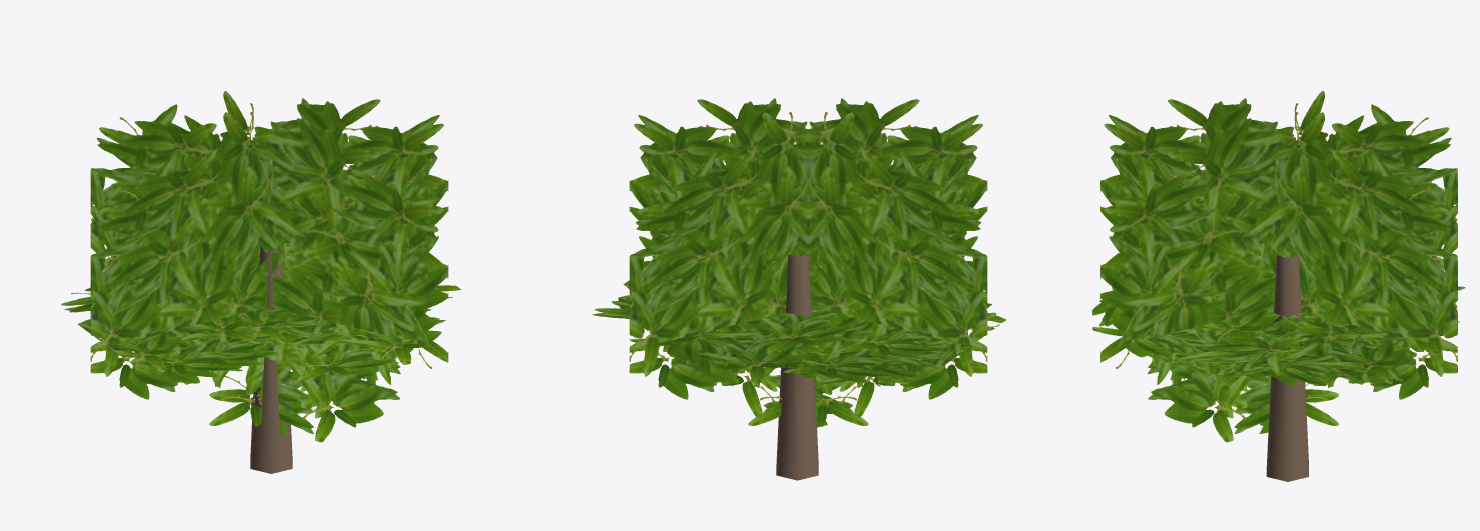
The model's file is tree_lod2.glb.
3 views of the same model, side by side, from view 1: azimuth 30°, elevation 25°; view 2: azimuth 150°, elevation 25°; view 3: azimuth 270°, elevation 25° (orthographic).
Parts seen in each view (by area): view 1: tree_lod2_mesh; view 2: tree_lod2_mesh; view 3: tree_lod2_mesh.
Boxes of the visible parts, box(x1,y1,x2,y2) form: tree_lod2_mesh: box(61, 90, 461, 473); tree_lod2_mesh: box(592, 98, 1006, 480); tree_lod2_mesh: box(1092, 91, 1465, 481).
Size of the model in its own units: 7.1 by 6.97 by 6.42.
Materials: 2 (1 with a texture image).
